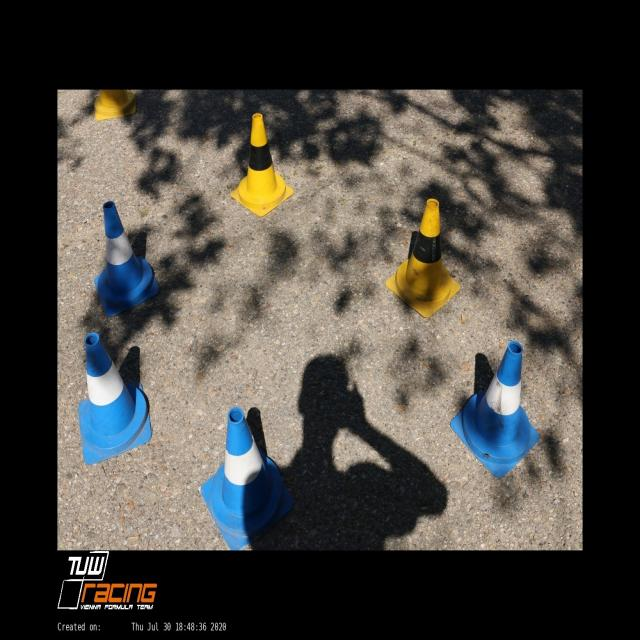blue_cone: (200, 408, 295, 550), (451, 340, 540, 479), (77, 332, 152, 466), (94, 201, 160, 316)
yellow_cone: (385, 199, 461, 317), (230, 113, 294, 217), (94, 90, 137, 120)
